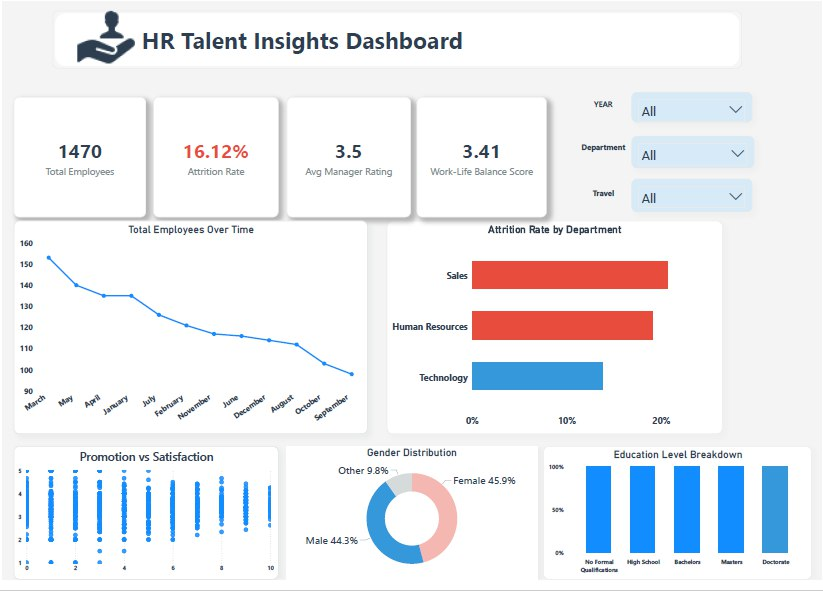

Layout of this report page (visuals, bound fields, positions):
{"tool":"powerbi","page":{"name":"Workforce Overview","canvas":[1700,1200],"ordinal":0},"visuals":[{"type":"donutChart","title":"Gender Distribution","fields":{"Category":["DimEmployee.Gender"],"Y":["Key Measures.Total Employees"]},"box":[590,922.5,520,277.5],"z":0},{"type":"clusteredBarChart","title":"Attrition Rate by Department","fields":{"Category":["DimEmployee.Department"],"Y":["Key Measures.Attrition Rate"]},"box":[797.5,455,697.5,442.5],"z":1000},{"type":"hundredPercentStackedColumnChart","title":"Education Level Breakdown","fields":{"Category":["DimEducation.EducationLevel"],"Y":["Key Measures.Total Employees"]},"box":[1122.5,922.5,557.5,277.5],"z":2000},{"type":"scatterChart","title":"Promotion vs Satisfaction","fields":{"X":["Sum(DimEmployee.YearsSinceLastPromotion)"],"Y":["Key Measures.Avg Job Satisfaction"],"Category":["DimEmployee.EmployeeID"]},"box":[22.5,922.5,550,277.5],"z":3000},{"type":"shape","box":[103.9,19.5,1431.3,119.1],"z":4000},{"type":"textbox","box":[103.9,41.1,1024.2,97.4],"z":5000},{"type":"image","box":[65,8.7,298.8,129.9],"z":6000},{"type":"card","fields":{"Values":["Key Measures.Total Employees"]},"box":[22.5,197.5,275,250],"z":7000},{"type":"card","fields":{"Values":["Key Measures.Attrition Rate"]},"box":[312.5,197.5,260,250],"z":8000},{"type":"card","fields":{"Values":["Key Measures.Avg Manager Rating"]},"box":[590,197.5,257.5,250],"z":9000},{"type":"card","fields":{"Values":["Key Measures.Work-Life Balance Score"]},"box":[860,197.5,270,250],"z":10000},{"type":"slicer","title":"YEAR","fields":{"Values":["Dim Date.Year"]},"box":[1305.7,188.4,251.2,62.8],"z":11000},{"type":"textbox","box":[1188.8,197,116.9,45.5],"z":12000},{"type":"slicer","fields":{"Values":["DimEmployee.Department"]},"box":[1305.7,279.3,255.5,67.1],"z":13000},{"type":"slicer","fields":{"Values":["DimEmployee.BusinessTravel"]},"box":[1305.7,368.1,251.2,69.3],"z":14000},{"type":"textbox","box":[1188.8,285.8,116.9,56.3],"z":15000},{"type":"textbox","box":[1188.8,381.1,116.9,56.3],"z":16000},{"type":"lineChart","title":"Total Employees Over Time","fields":{"Y":["Key Measures.Total Employees"],"Category":["Dim Date.MonthName"]},"box":[22.5,455,735,442.5],"z":17000}]}

Visuals, with their boxes in screenshot pixels (x1, y1, x2, y2), scaled from the page's 1700x1200 canvas onto the 823x591 screenshot:
"Gender Distribution" donutChart: bbox=[286, 454, 537, 590]
"Attrition Rate by Department" clusteredBarChart: bbox=[386, 224, 724, 442]
"Education Level Breakdown" hundredPercentStackedColumnChart: bbox=[543, 454, 813, 590]
"Promotion vs Satisfaction" scatterChart: bbox=[11, 454, 277, 590]
shape: bbox=[50, 10, 743, 68]
textbox: bbox=[50, 20, 546, 68]
image: bbox=[31, 4, 176, 68]
card - Key Measures.Total Employees: bbox=[11, 97, 144, 220]
card - Key Measures.Attrition Rate: bbox=[151, 97, 277, 220]
card - Key Measures.Avg Manager Rating: bbox=[286, 97, 410, 220]
card - Key Measures.Work-Life Balance Score: bbox=[416, 97, 547, 220]
"YEAR" slicer: bbox=[632, 93, 754, 124]
textbox: bbox=[576, 97, 632, 119]
slicer - DimEmployee.Department: bbox=[632, 138, 756, 171]
slicer - DimEmployee.BusinessTravel: bbox=[632, 181, 754, 215]
textbox: bbox=[576, 141, 632, 168]
textbox: bbox=[576, 188, 632, 215]
"Total Employees Over Time" lineChart: bbox=[11, 224, 367, 442]
